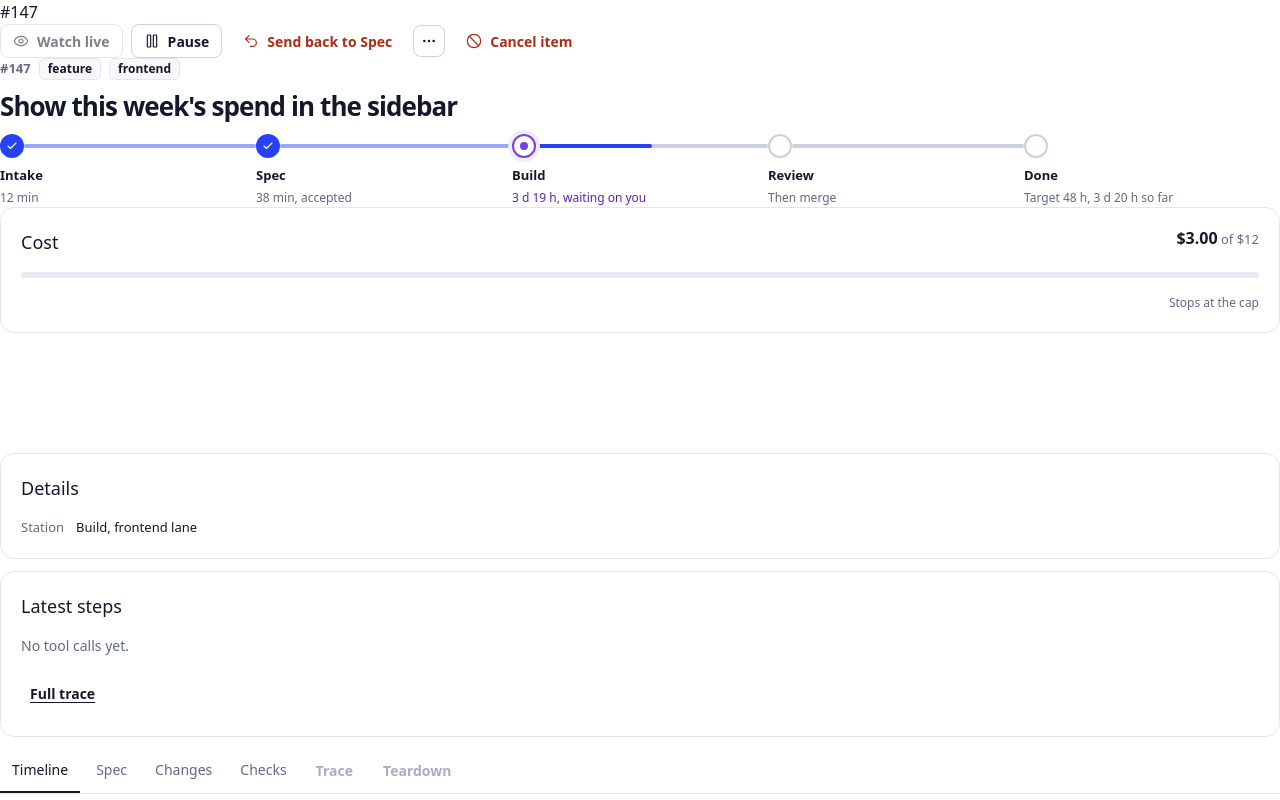
Test: Cancel item on an item page › opens the confirm dialog with its copy and cancels with the typed reason
Click the button "Cancel item": click(519, 41) [453,24,586,58]
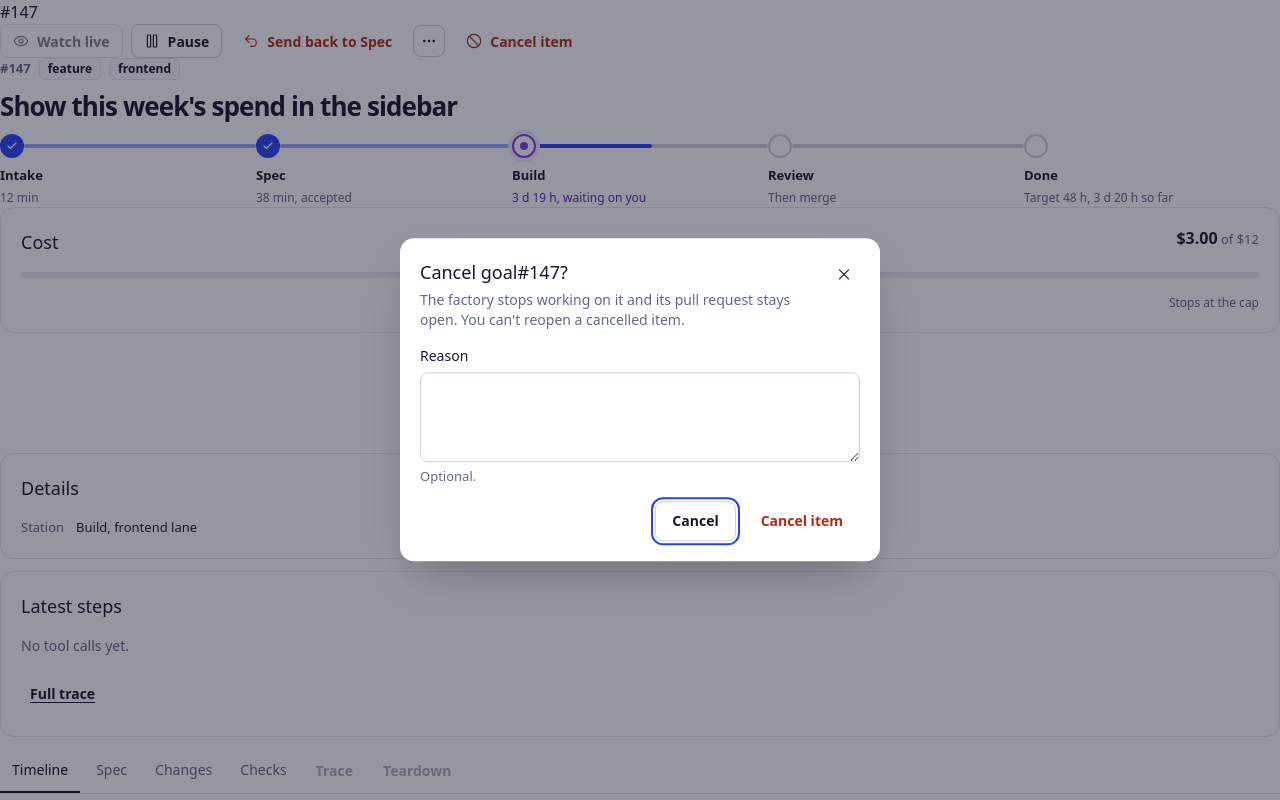
Now the text "The factory stops working on it and its pull request stays open. You can't reopen a cancelled item." is shown, box [420,290,790,329]
In the text box labelled "Reason": (640, 417) [420,372,860,462], type "Duplicate of #12"
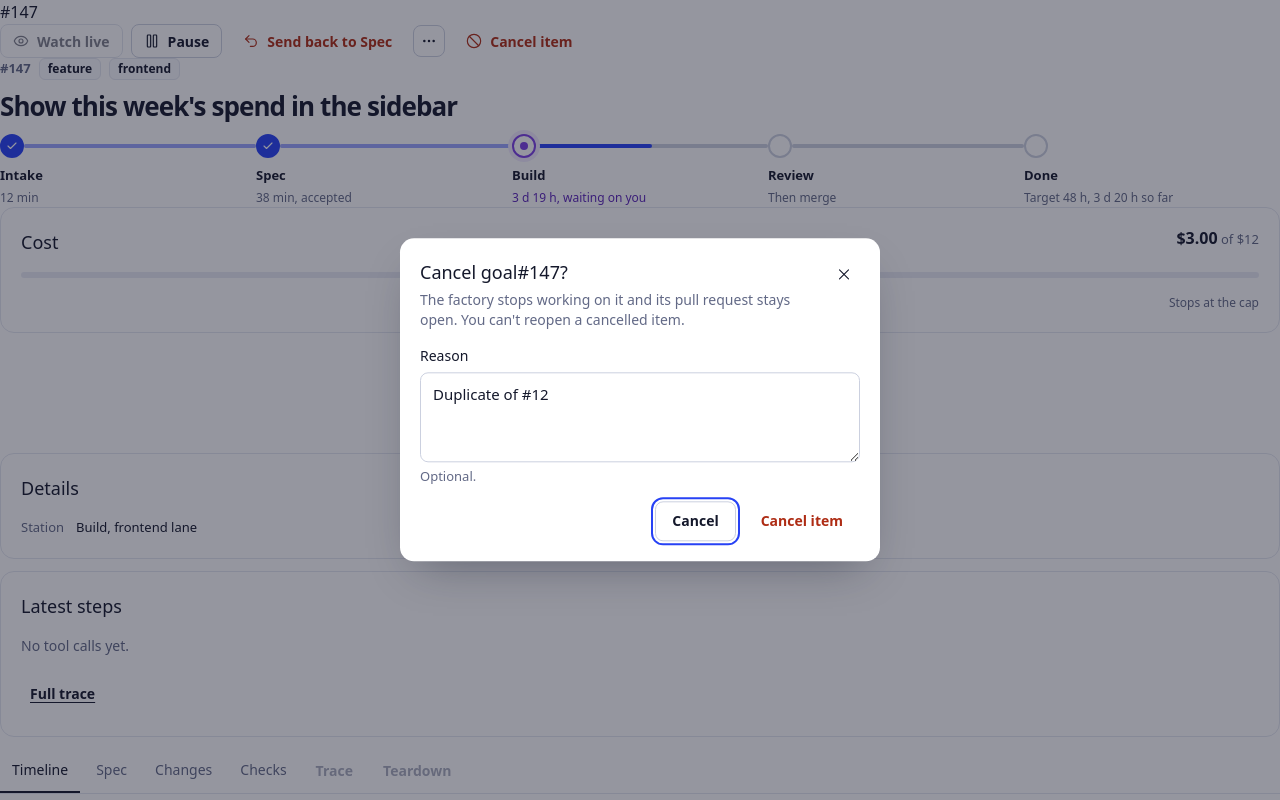
Click the button "Cancel item": click(802, 522) [744,502,860,542]
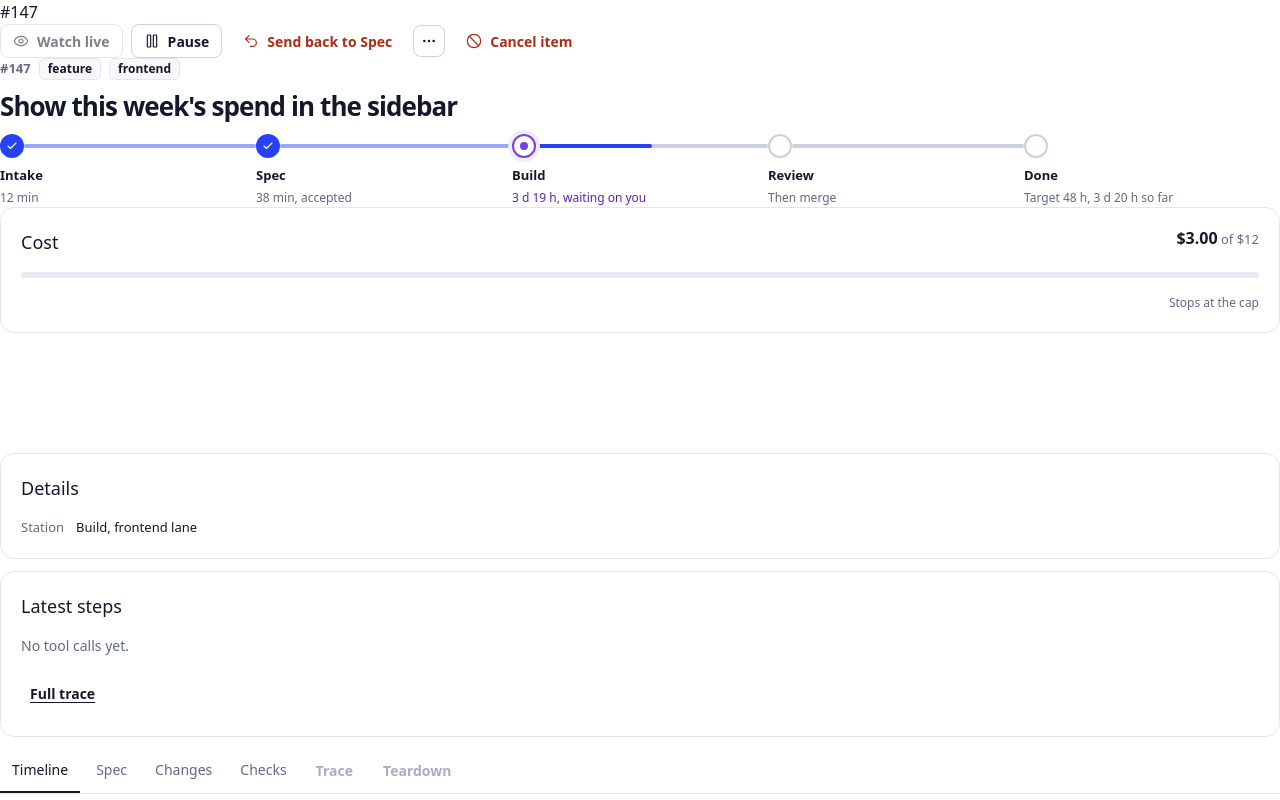
Now the dialog is gone
